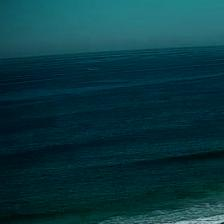surfer: (168, 184, 174, 188), (60, 209, 65, 213), (176, 196, 182, 199), (148, 193, 152, 196), (181, 189, 184, 192), (158, 187, 161, 190), (110, 202, 112, 206), (115, 190, 117, 194), (118, 202, 121, 204), (128, 193, 130, 196), (202, 185, 204, 188)
